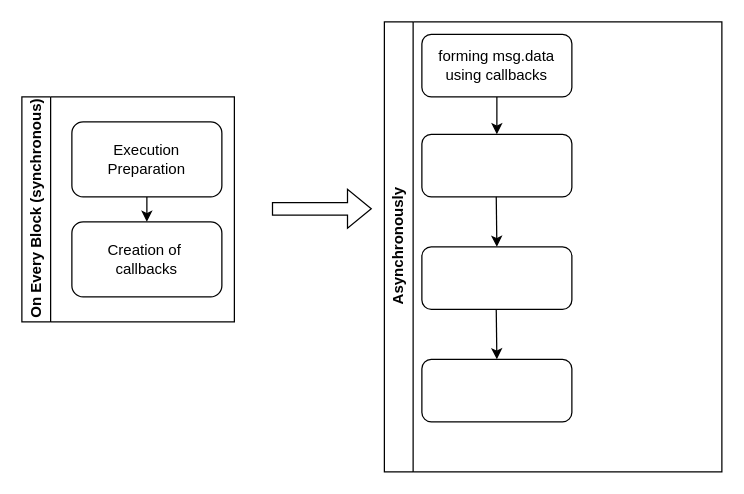
The diagram is 744 pixels wide and 494 high, and some of its shapes have lost their labels. Each missing label, with the centre of its shape:
"attempt using FlashBots" goes at (496,165).
"cancel execution if error" goes at (496,390).
"use standard RPC" goes at (496,277).
